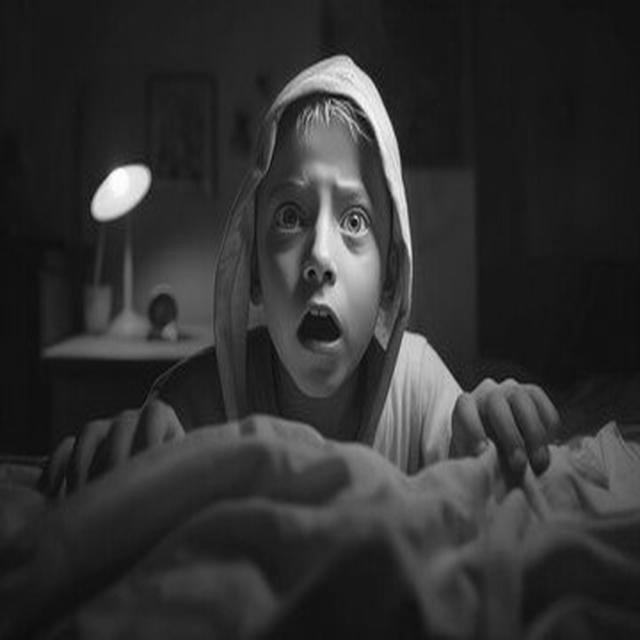Fear: (255, 107, 391, 399)
